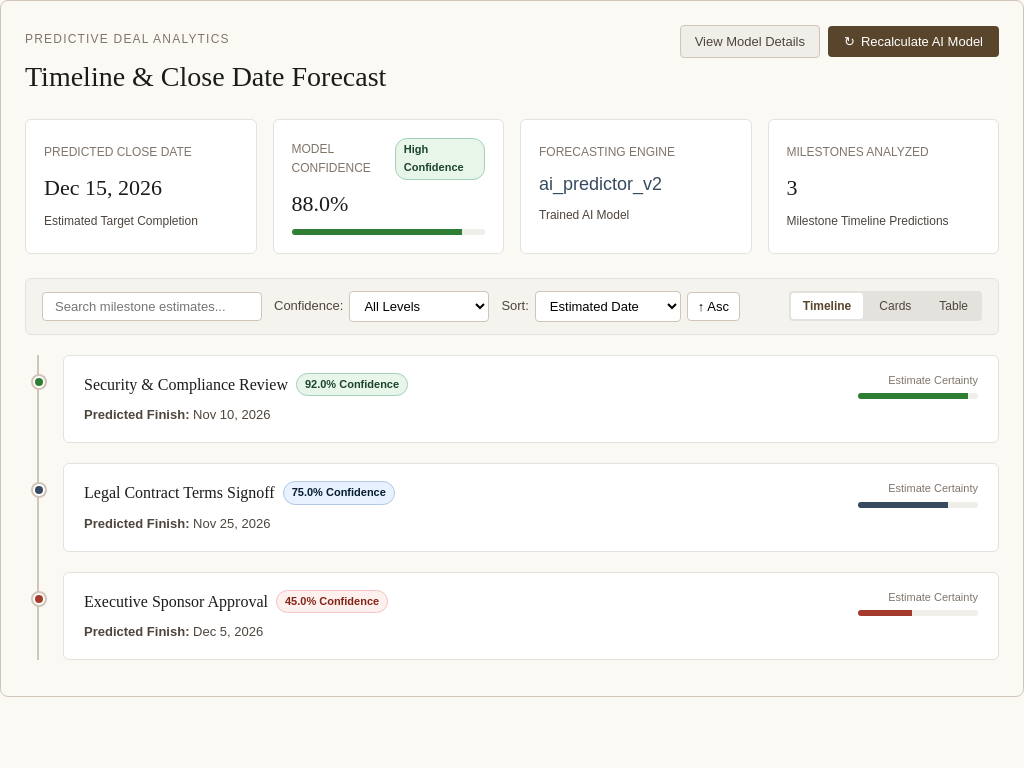
Test: TimelineForecast Component › Component Rendering & Interactive Behavior › toggles model details modal when clicked
Step 1. Click the button with test id "toggle-details-btn" → {"x": 750, "y": 42}, box [680, 25, 820, 58]
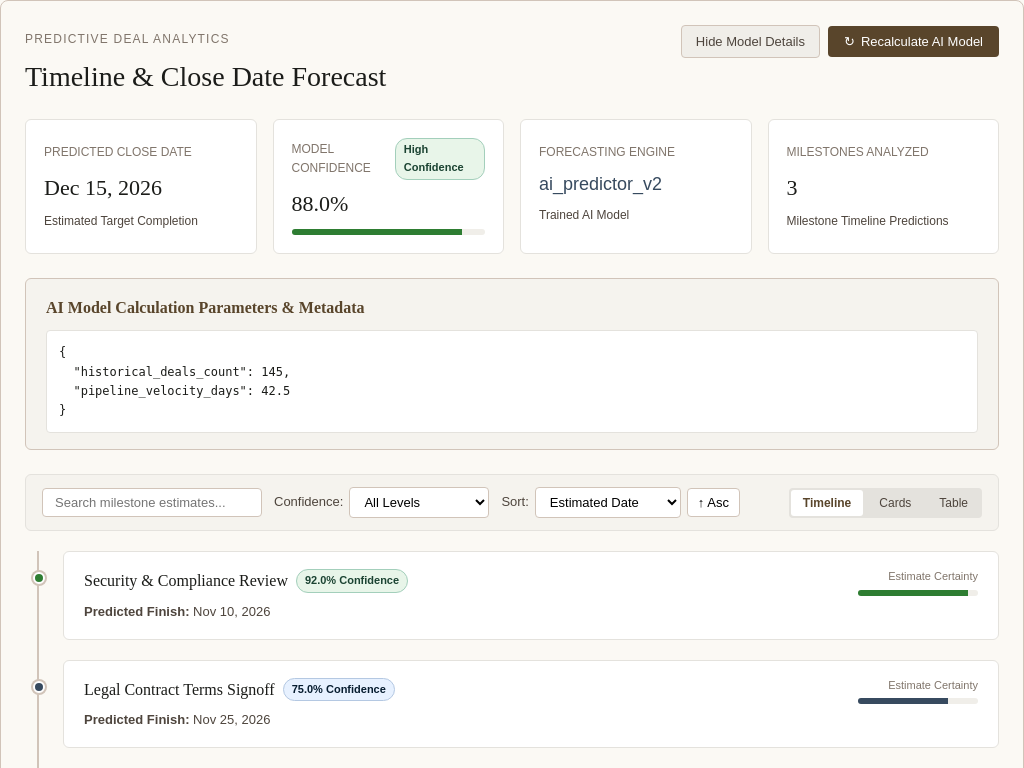
Check: the element with test id "model-details-panel" is shown, box [25, 278, 999, 450]
Check: the text "145" is shown, box [59, 345, 290, 417]
